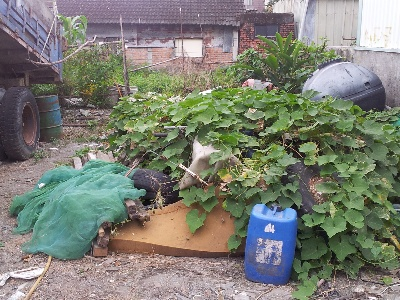bucket: (243, 202, 296, 288), (36, 93, 66, 142)
water_tower: (301, 57, 388, 117)
